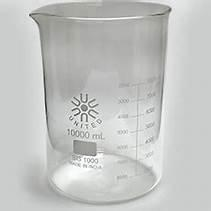Beaker: (25, 0, 170, 200)
